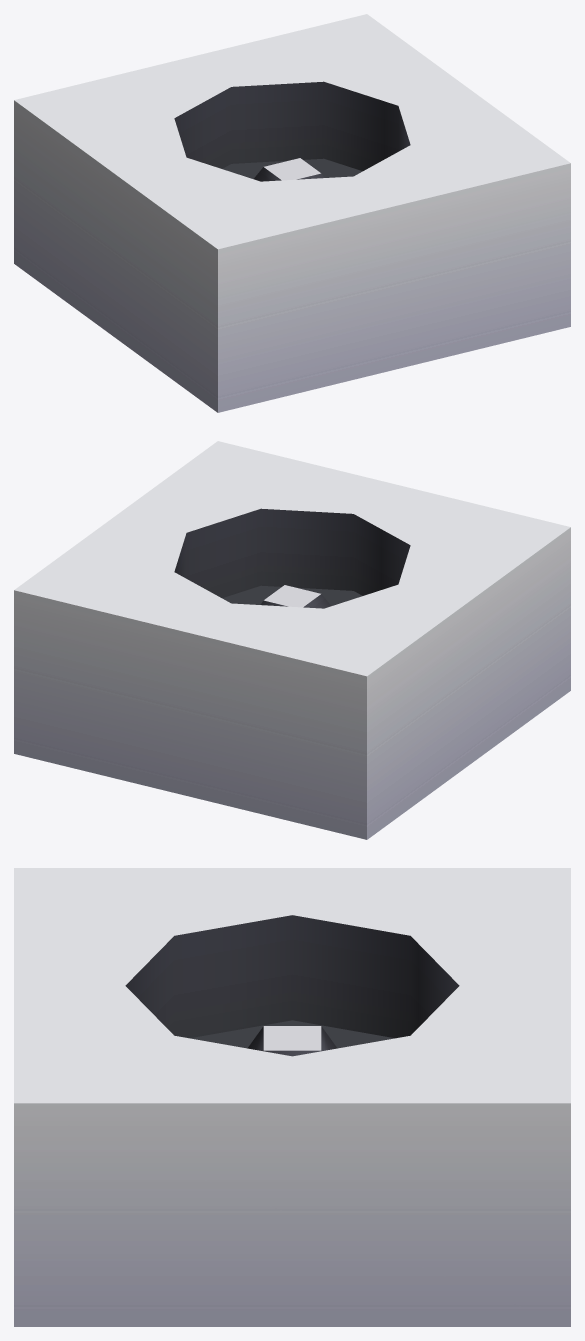
File: detail-ac-a.glb
3 renders of one model, top to bottom at view 1: azimuth 30°, elevation 25°; view 2: azimuth 150°, elevation 25°; view 3: azimuth 270°, elevation 25°, orthographic. The views are drawn at different scales.
Parts seen in each view (by area): view 1: detail-ac-a; view 2: detail-ac-a; view 3: detail-ac-a.
Part boxes in pixels (x1,y1,x2,y2): detail-ac-a: (14,14,570,412); detail-ac-a: (14,441,570,839); detail-ac-a: (14,868,570,1326).
Bounding box in the file's own units: 0.24 × 0.1062 × 0.24.
1 material, 1 textured.
